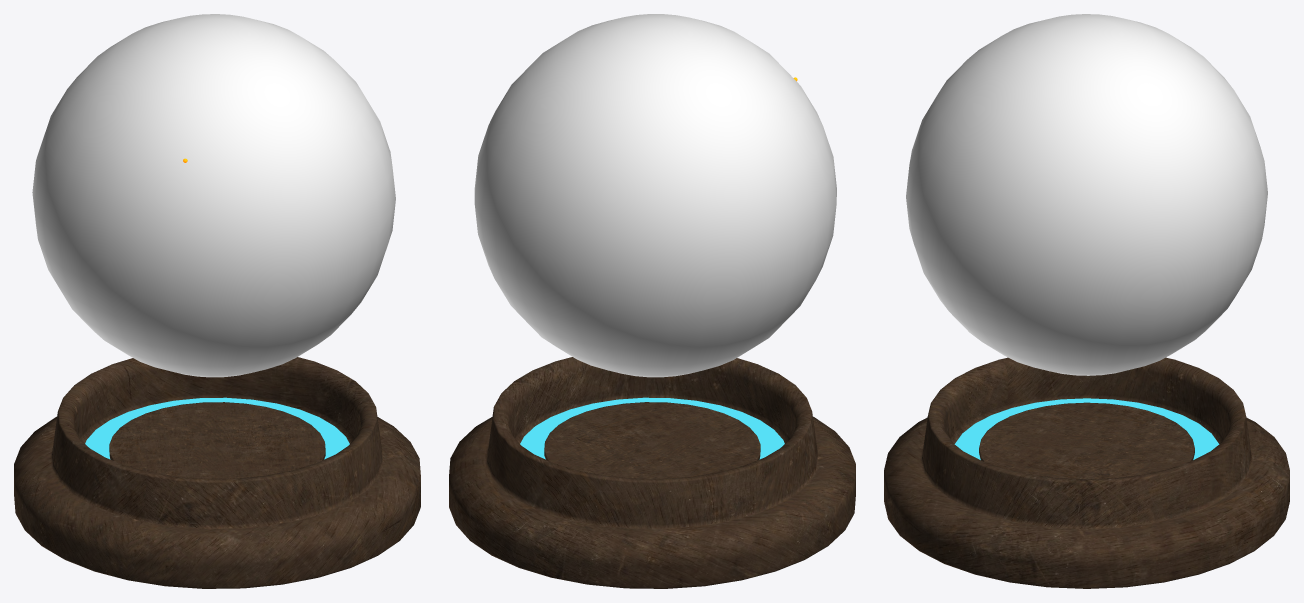
Rendered from earth.glb.
The picture shows the model from 3 angles, left to right: view 1: azimuth 30°, elevation 25°; view 2: azimuth 150°, elevation 25°; view 3: azimuth 270°, elevation 25°; orthographic projection.
Parts seen in each view (by area): view 1: world, Cylinder.001; view 2: world, Cylinder.001; view 3: world, Cylinder.001.
Part boxes in pixels (box(x1,y1,x2,y2)): world: box(32, 14, 395, 377); Cylinder.001: box(14, 357, 420, 588); world: box(474, 14, 836, 377); Cylinder.001: box(449, 357, 855, 588); world: box(906, 14, 1267, 375); Cylinder.001: box(884, 357, 1289, 588).
Size of the model in its own units: 2 by 2.57 by 2.
4 materials, 1 textured.
